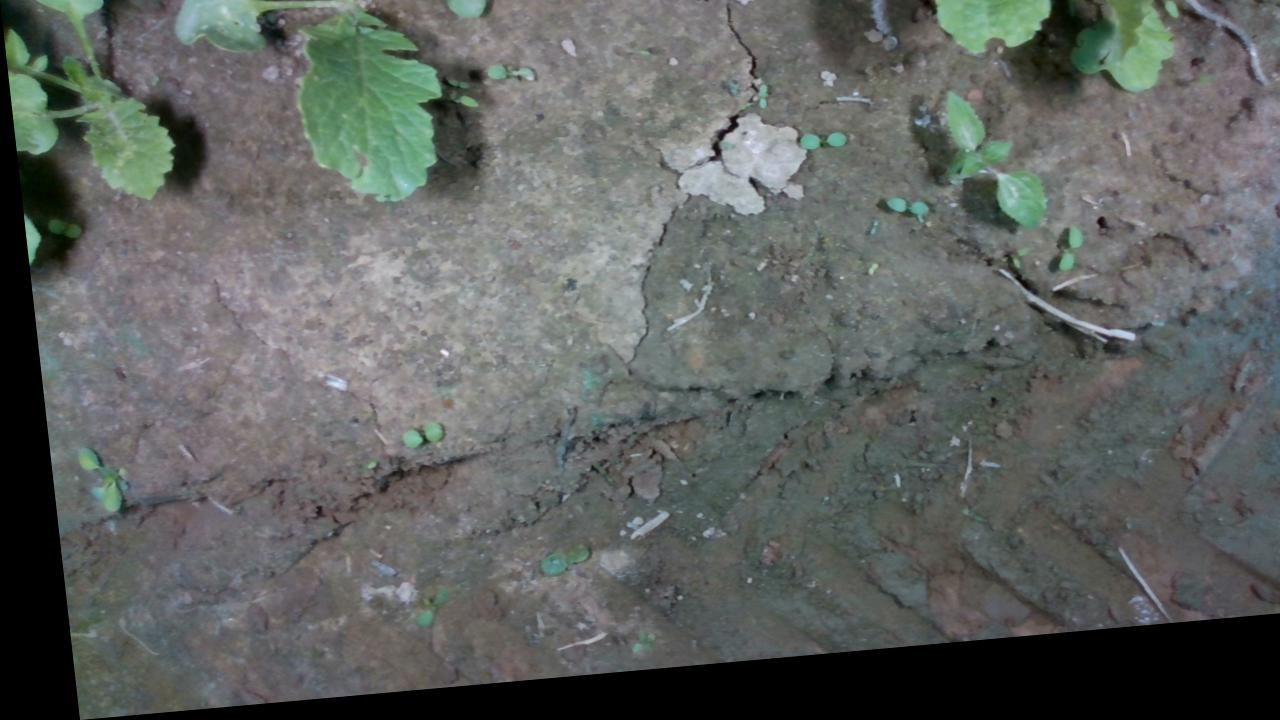weed: (935, 99, 1042, 254), (62, 443, 113, 518), (520, 550, 578, 584), (1045, 239, 1078, 293), (480, 66, 535, 94), (385, 427, 433, 457), (878, 207, 925, 233), (792, 144, 843, 166), (746, 96, 765, 125), (441, 83, 468, 99), (856, 275, 872, 292), (860, 234, 873, 253)
